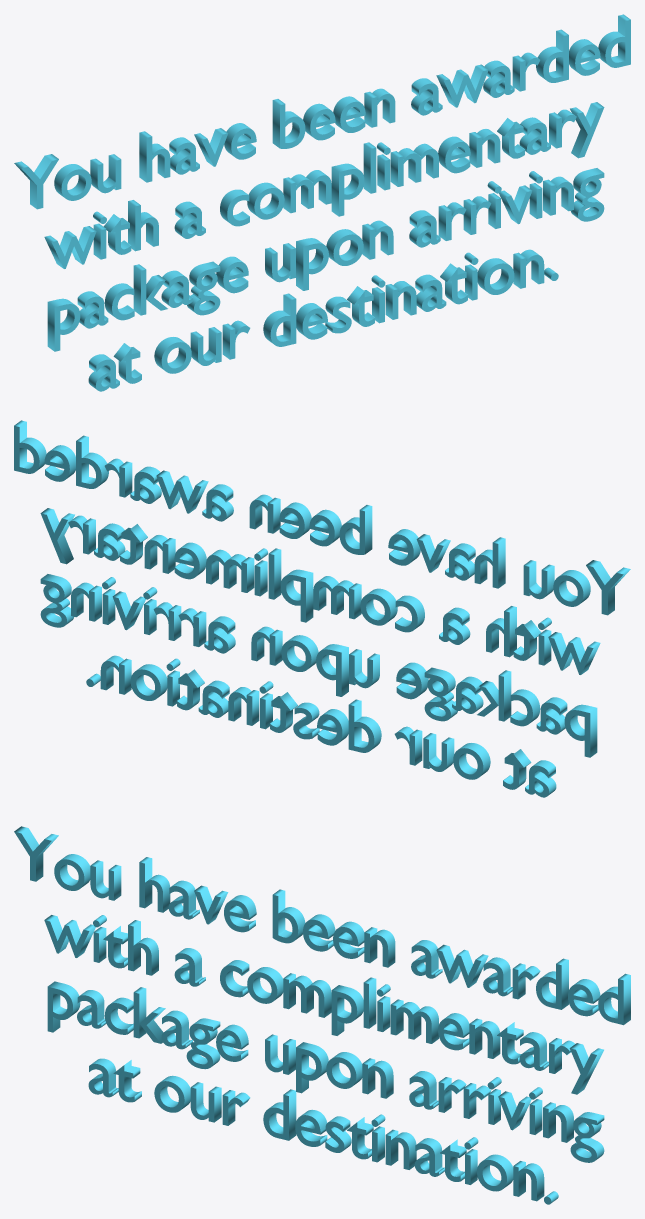
File: console_ending_003.fbx
3 renders of one model, top to bottom at view 1: azimuth 30°, elevation 25°; view 2: azimuth 150°, elevation 25°; view 3: azimuth 330°, elevation 25°, orthographic.
Visible parts, largest first — view 1: Txt_Test_01.048; view 2: Txt_Test_01.048; view 3: Txt_Test_01.048.
Part boxes in pixels (x1,y1,x2,y2): Txt_Test_01.048: (14,14,630,391); Txt_Test_01.048: (14,420,630,797); Txt_Test_01.048: (14,826,630,1204).
Size of the model in its own units: 1.31 by 0.4979 by 0.027.
